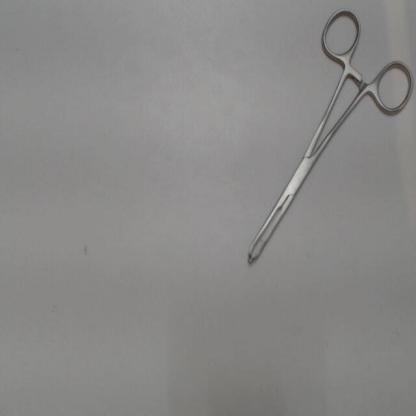Allis Tissue Forceps: (240, 3, 414, 273)
